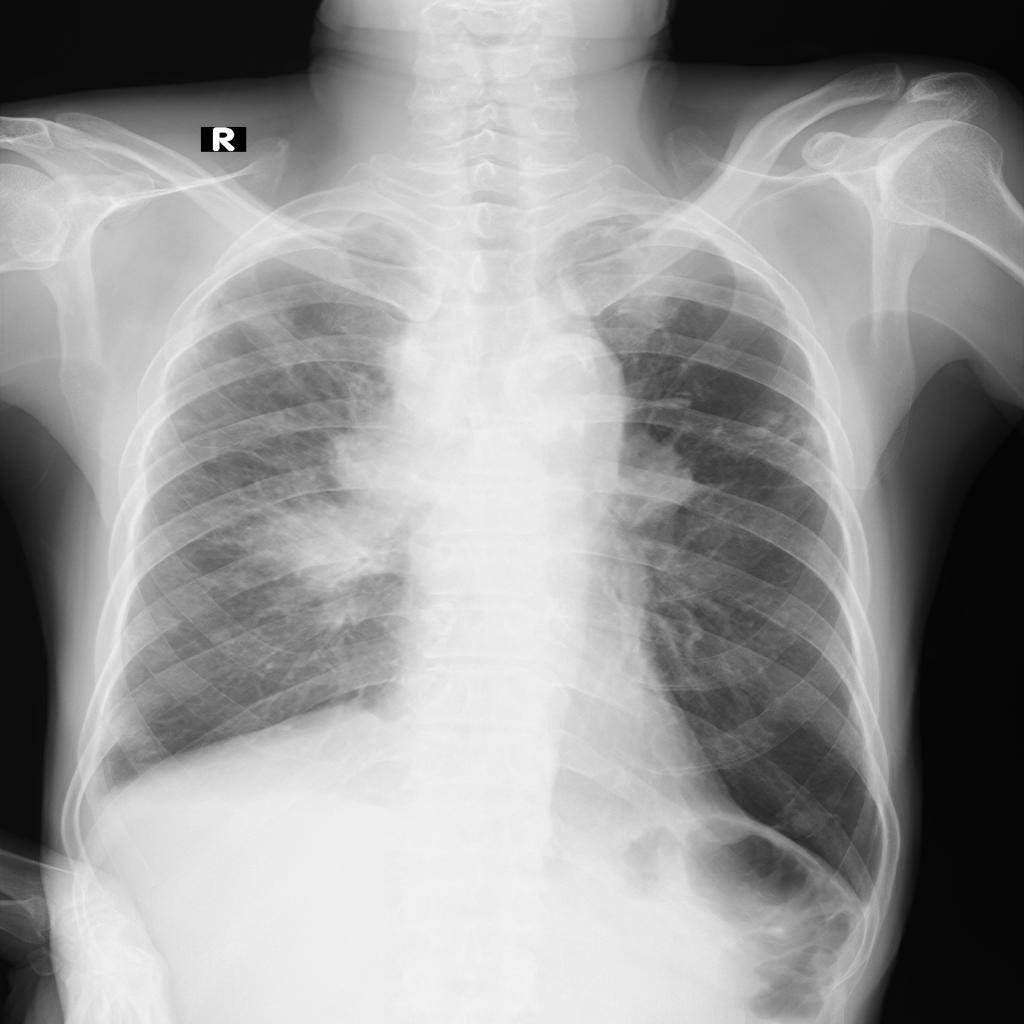Nodule: (323, 327, 480, 514), (598, 433, 700, 529)
